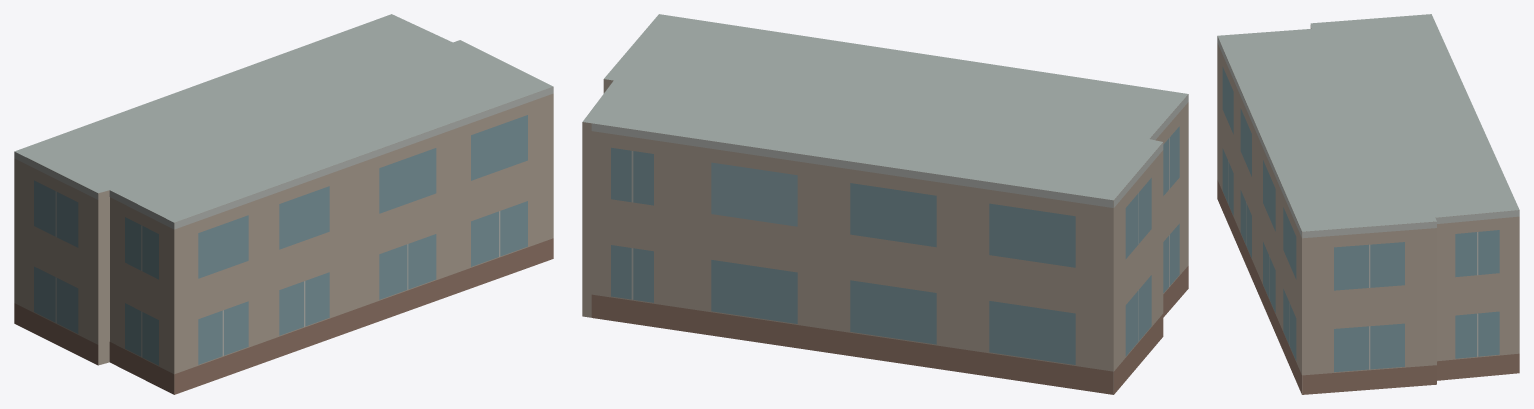
File: survey-upis-32696340.glb
3 views of the same model, side by side, from view 1: azimuth 30°, elevation 25°; view 2: azimuth 150°, elevation 25°; view 3: azimuth 270°, elevation 25° (orthographic). The views are drawn at different scales.
Parts seen in each view (by area): view 1: survey-upis-32696340.tmp; view 2: survey-upis-32696340.tmp; view 3: survey-upis-32696340.tmp.
Part boxes in pixels (bbox=[...]): survey-upis-32696340.tmp: bbox=[14, 14, 553, 394]; survey-upis-32696340.tmp: bbox=[582, 14, 1188, 394]; survey-upis-32696340.tmp: bbox=[1217, 14, 1519, 394].
Bounding box in the file's own units: 17.47 × 6.1 × 10.25.
